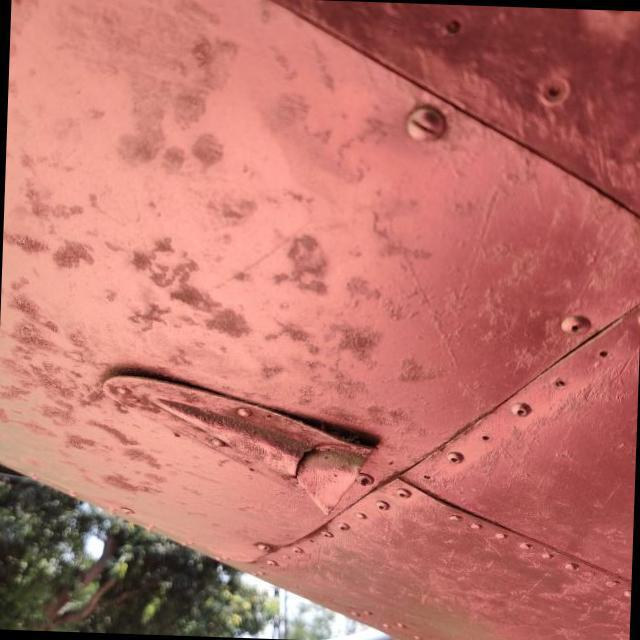Rupture: (278, 432, 334, 496)
